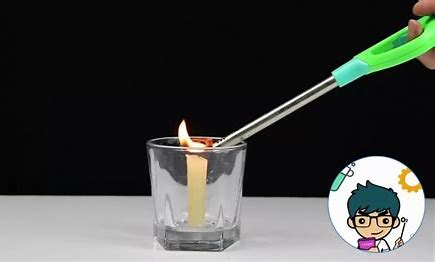Fire: (167, 115, 212, 154)
